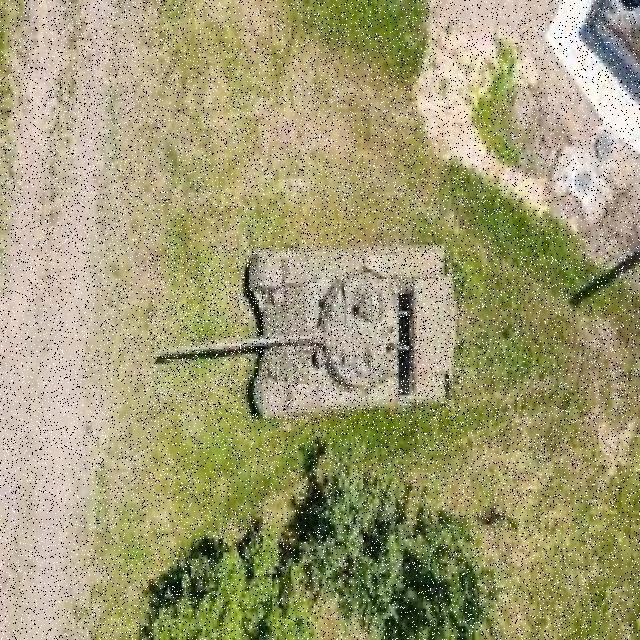MIL_MBT: (150, 247, 464, 420)
